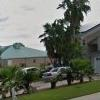Palm tree: (45, 1, 88, 50)
